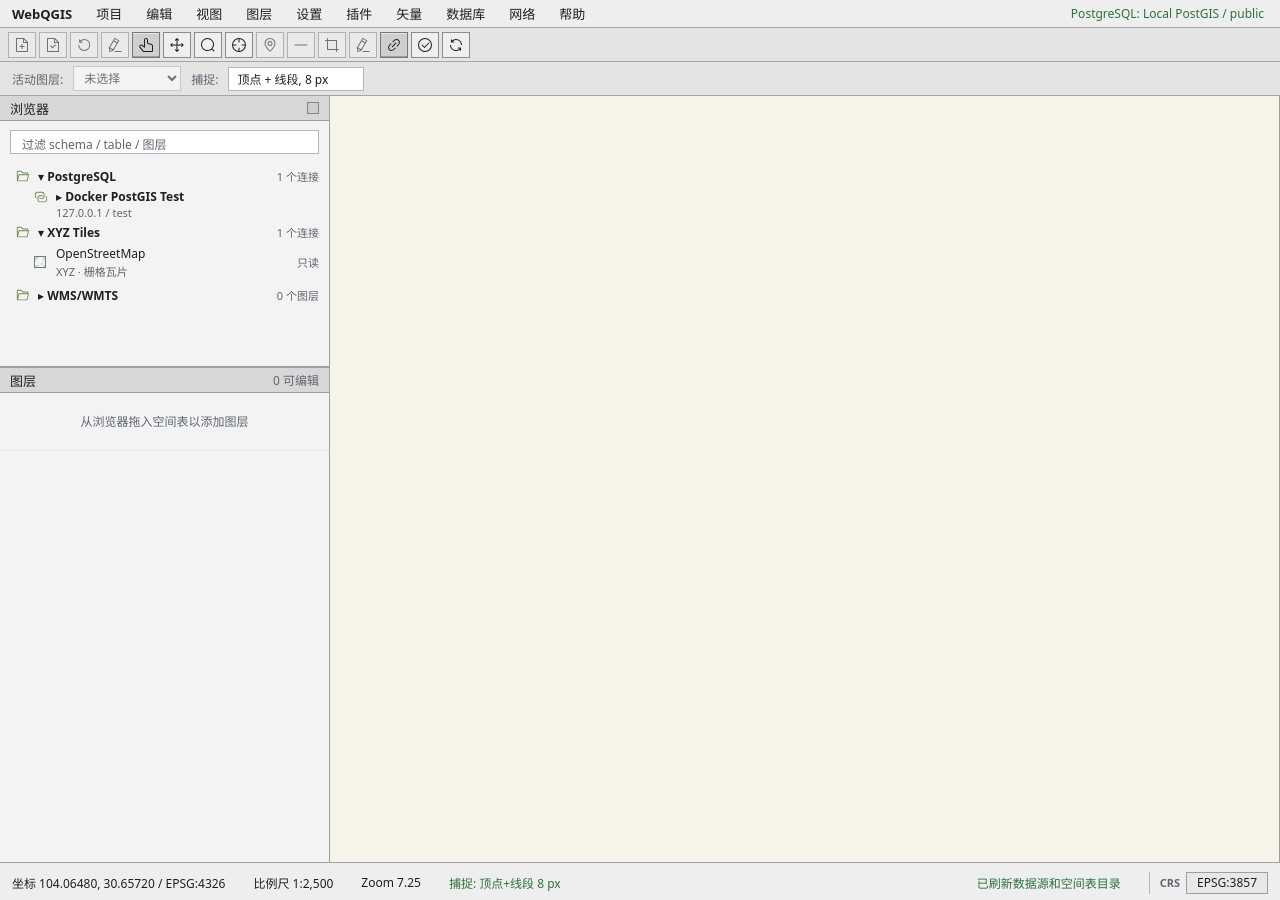
Test: WebGisWorkbench › opens QGIS-style CRS settings from the bottom status bar
The width and height of the screenshot is (1280, 900).
Click the button with class "workbench__status-crs-button": [1227, 882] box [1186,872,1268,894]
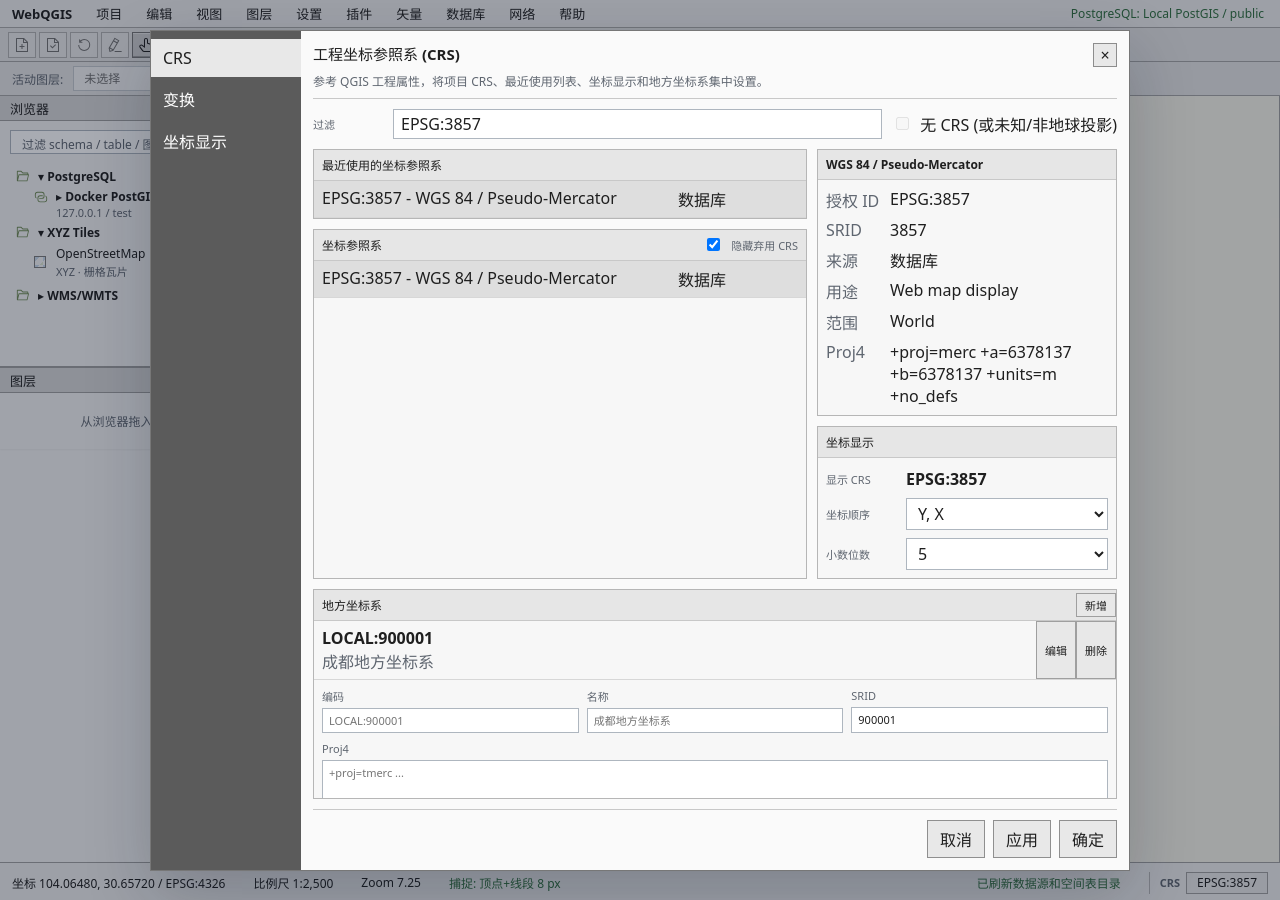
Result: the text "工程坐标参照系 (CRS)" is shown at [313,44,460,64]
Result: the text "最近使用的坐标参照系" is shown at [314,150,806,180]
Result: the text "坐标参照系" is shown at [313,44,460,64]
Select "Y, X" in the dropdown with class "workbench__crs-select" showing "坐标顺序": [1007, 514] box [906,498,1108,530]
Click the button with class "workbench__dialog-button" showing "确定": [1088, 838] box [1059,820,1117,858]
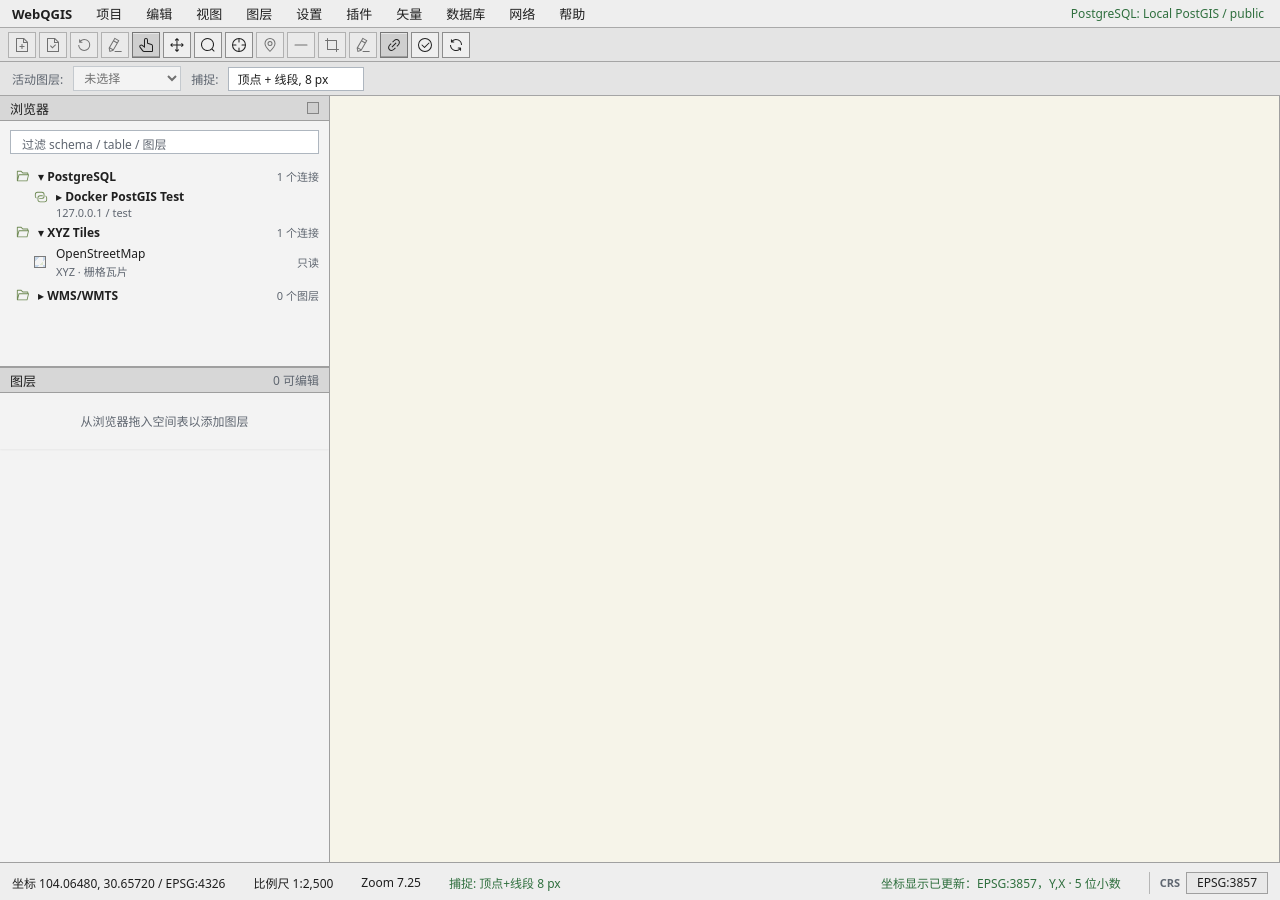
Result: the text "坐标显示已更新：EPSG:3857，Y,X · 5 位小数" is shown at [881,874,1121,892]
